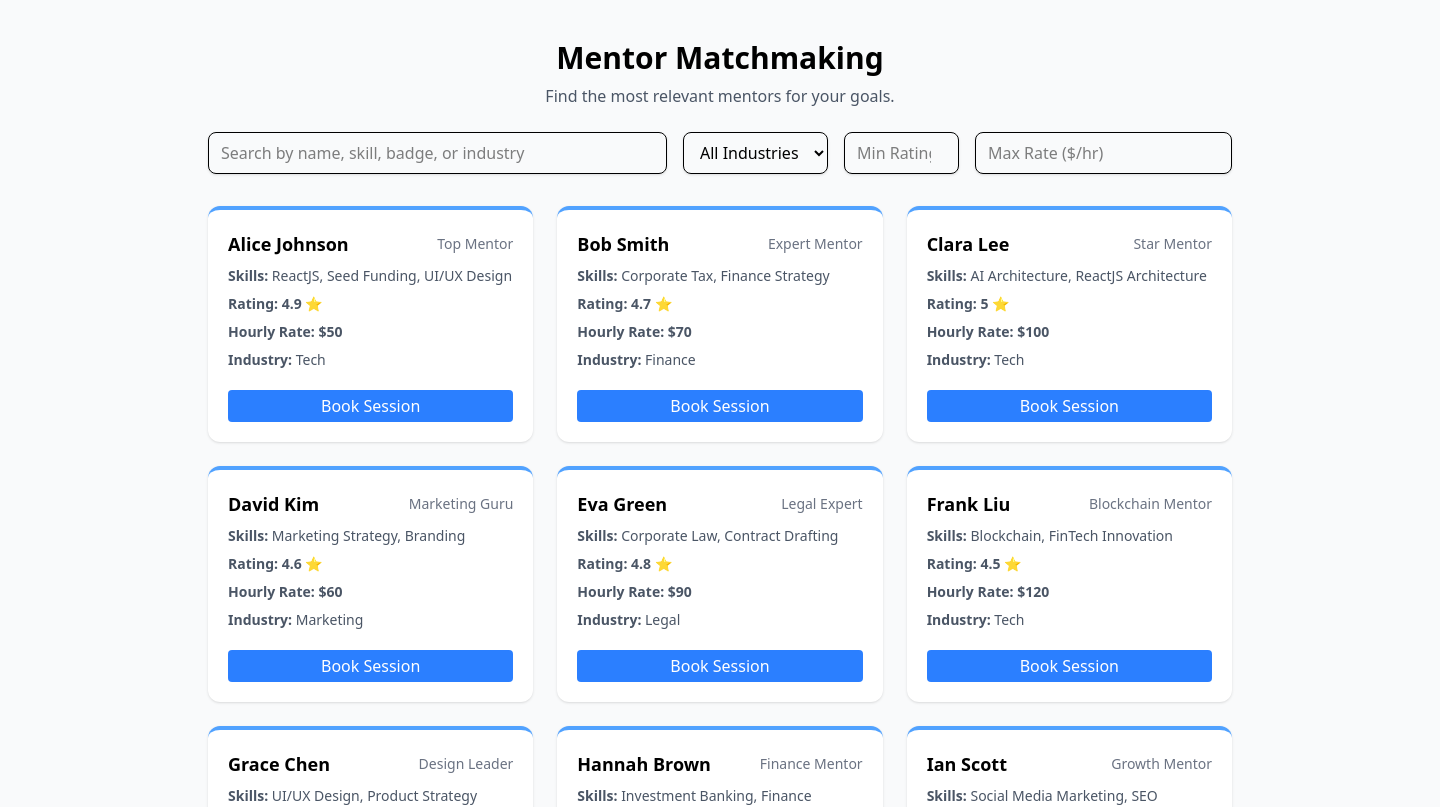
Test: MentorMatchmaking › should filter mentors by minimum rating
Type "4.9" into the number field with placeholder "Min Rating" at [902, 153], box x1=844 y1=132 x2=959 y2=174
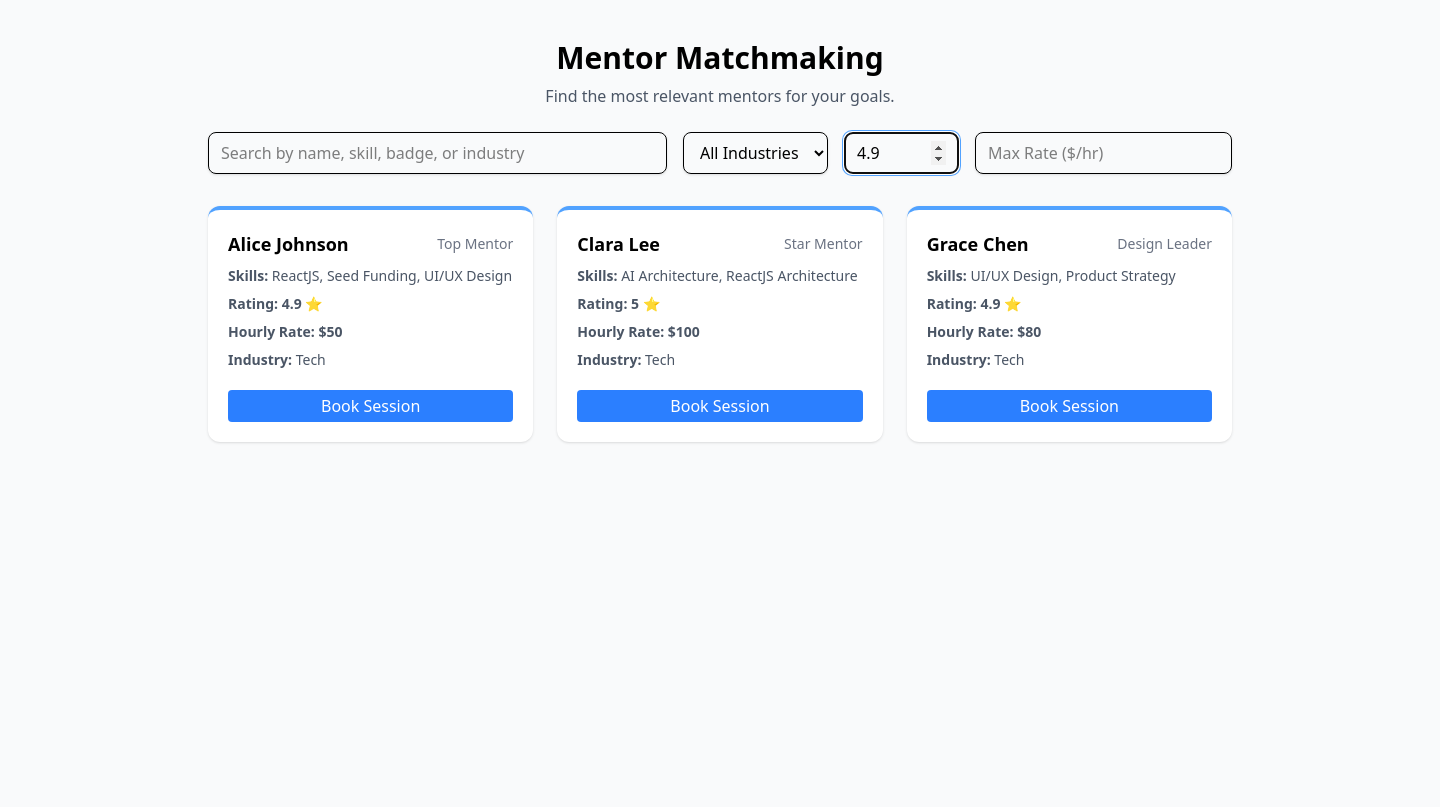
Check: the heading "Alice Johnson" is shown, box x1=228 y1=230 x2=349 y2=258
Check: the heading "Bob Smith" is gone
